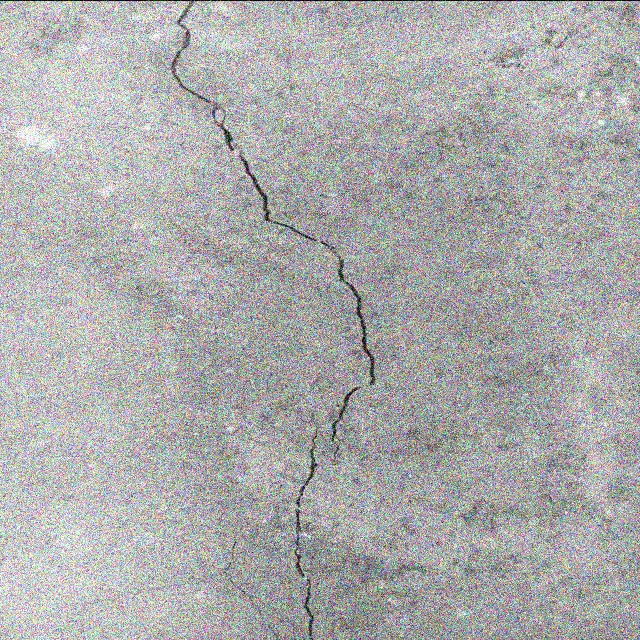SurfaceCrack: (137, 0, 403, 639)
